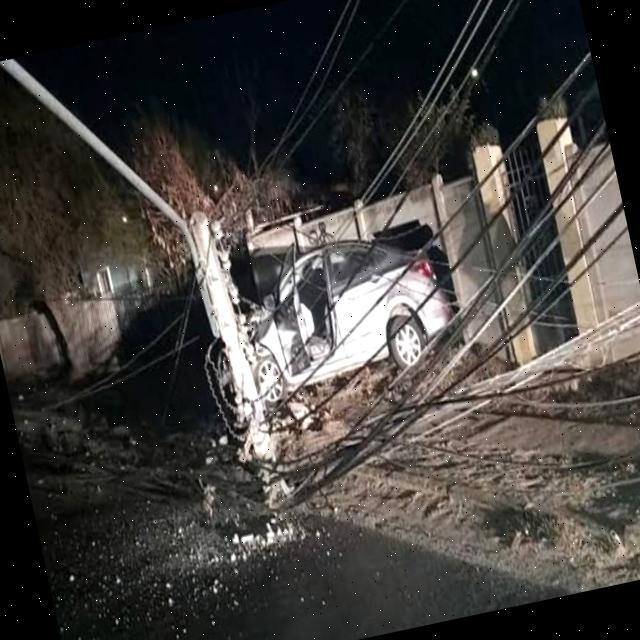Broken Pole: (0, 58, 290, 516)
